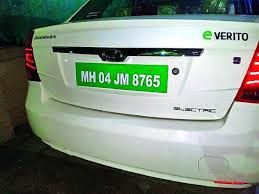number_plate: (60, 50, 192, 102)
